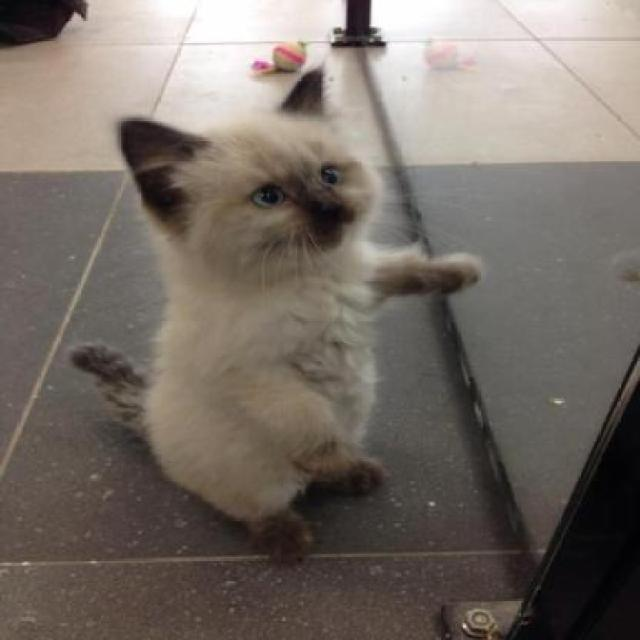cat: (88, 76, 462, 566)
